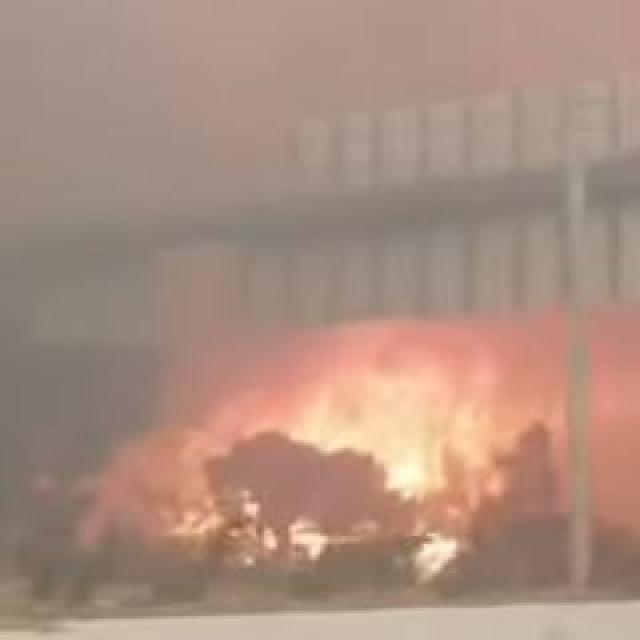Fire: (272, 362, 501, 527)
Smoke: (9, 0, 640, 357)
